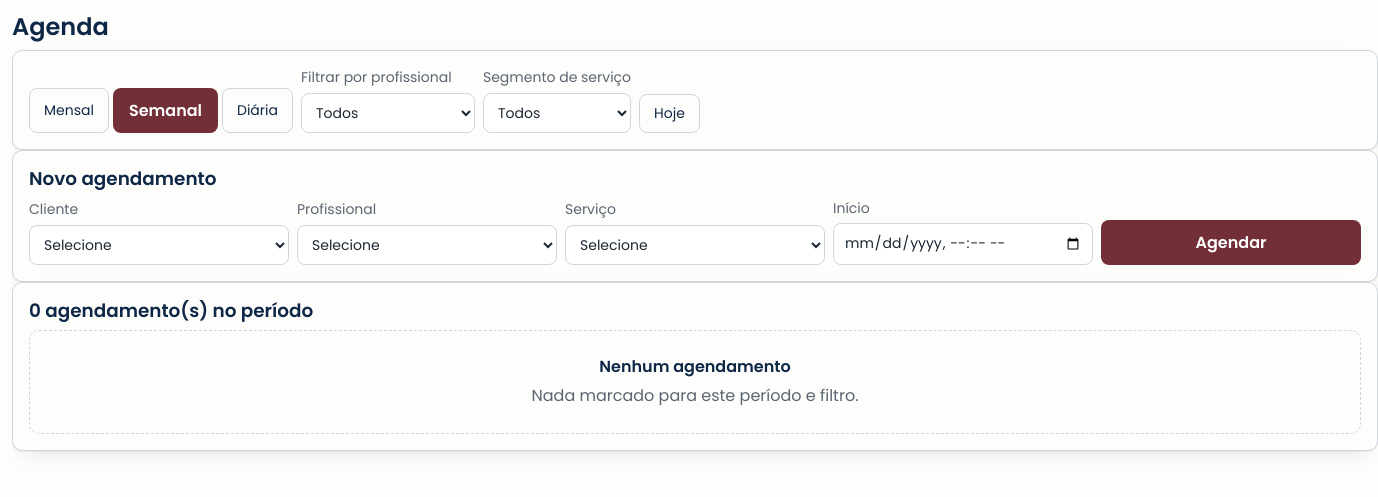
Test: TELA 2 — Agenda › conflito de horário mostra a mensagem do backend, não um erro genérico
Expected: the heading "Novo agendamento" is shown, [29,166,216,191]
Select "Cliente Fictício" in the dropdown labelled "Cliente": (159, 245) [29,225,289,265]
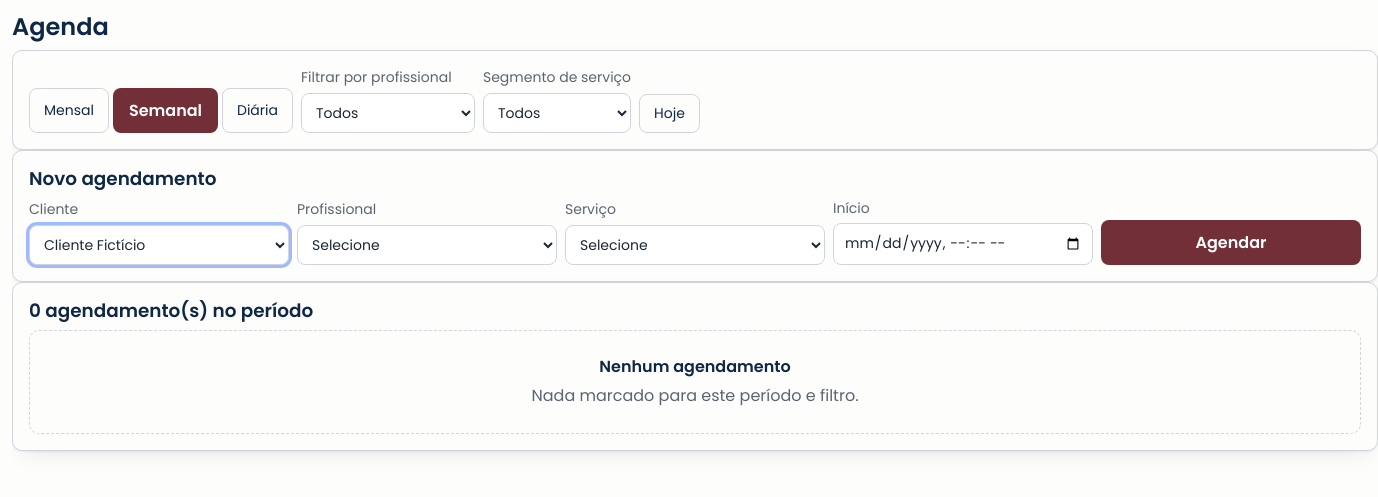
Select "Profissional Fictício" in the dropdown labelled "Profissional": (427, 245) [297,225,557,265]
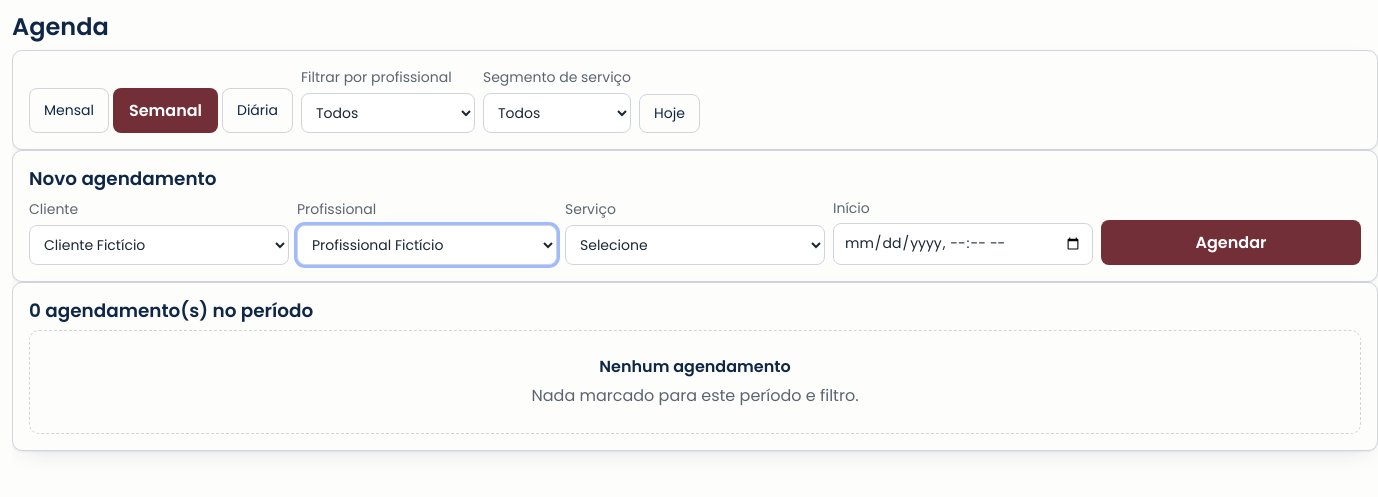
Select "Avaliação (60min)" in the dropdown labelled "Serviço": (695, 245) [565,225,825,265]
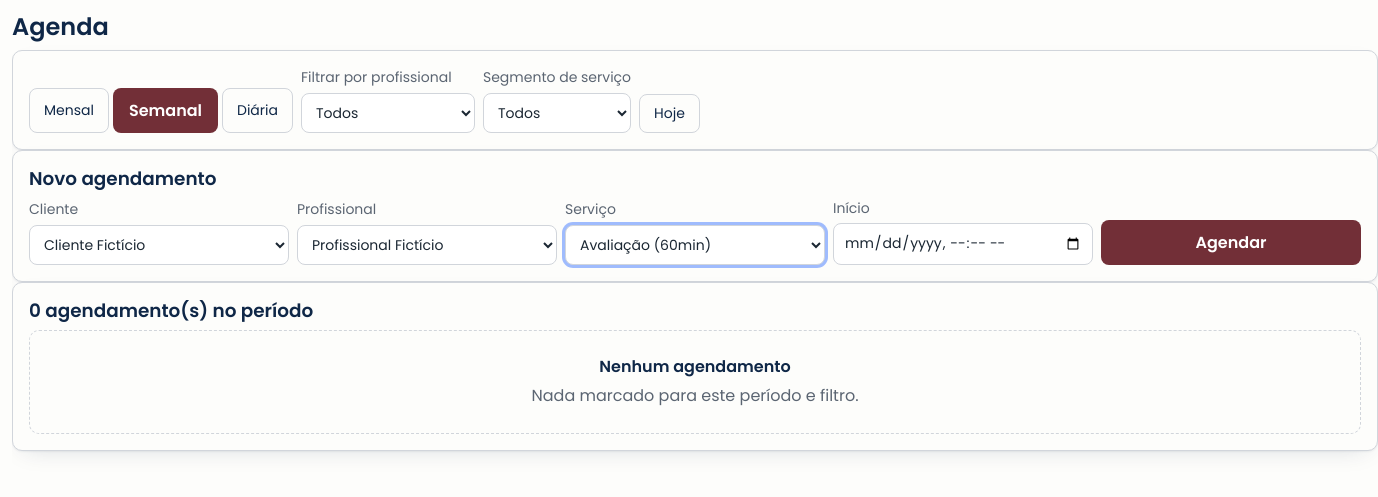
In the field labelled "Início": (963, 244) [833,223,1093,265], type "2026-09-20T13:00"
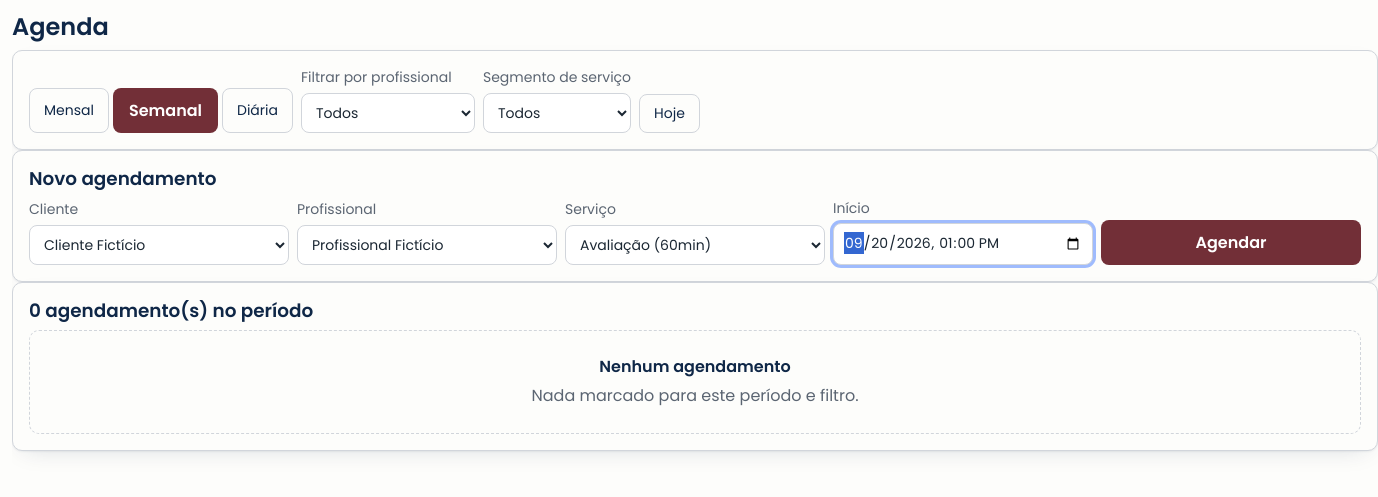
Click the button "Agendar": (1231, 243) [1101,220,1361,265]
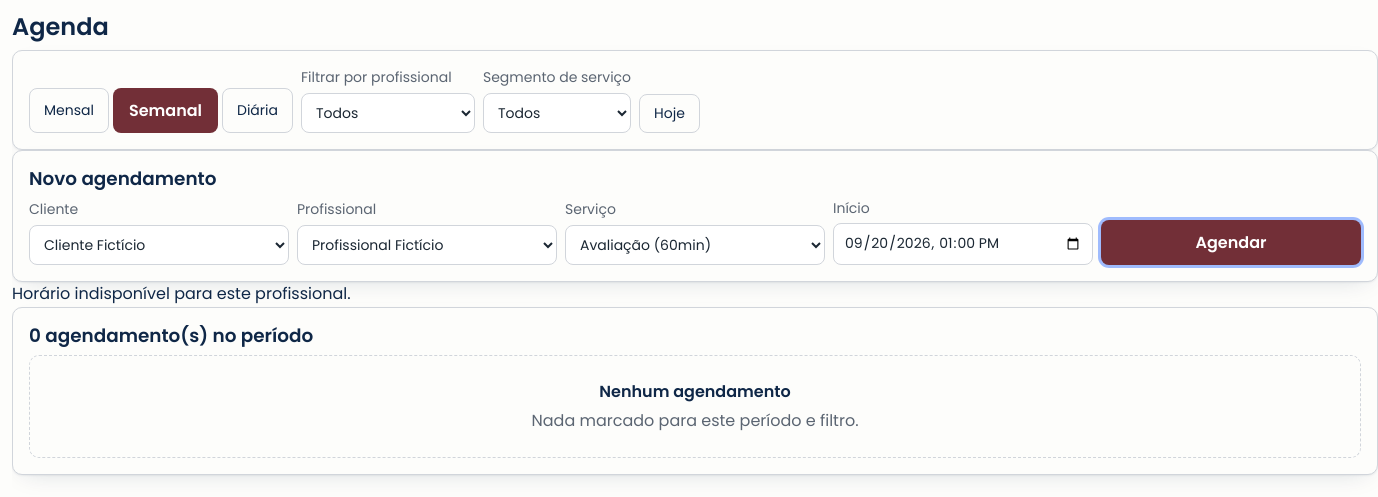
Result: the text "Horário indisponível para este profissional." is shown at [12,282,351,305]
